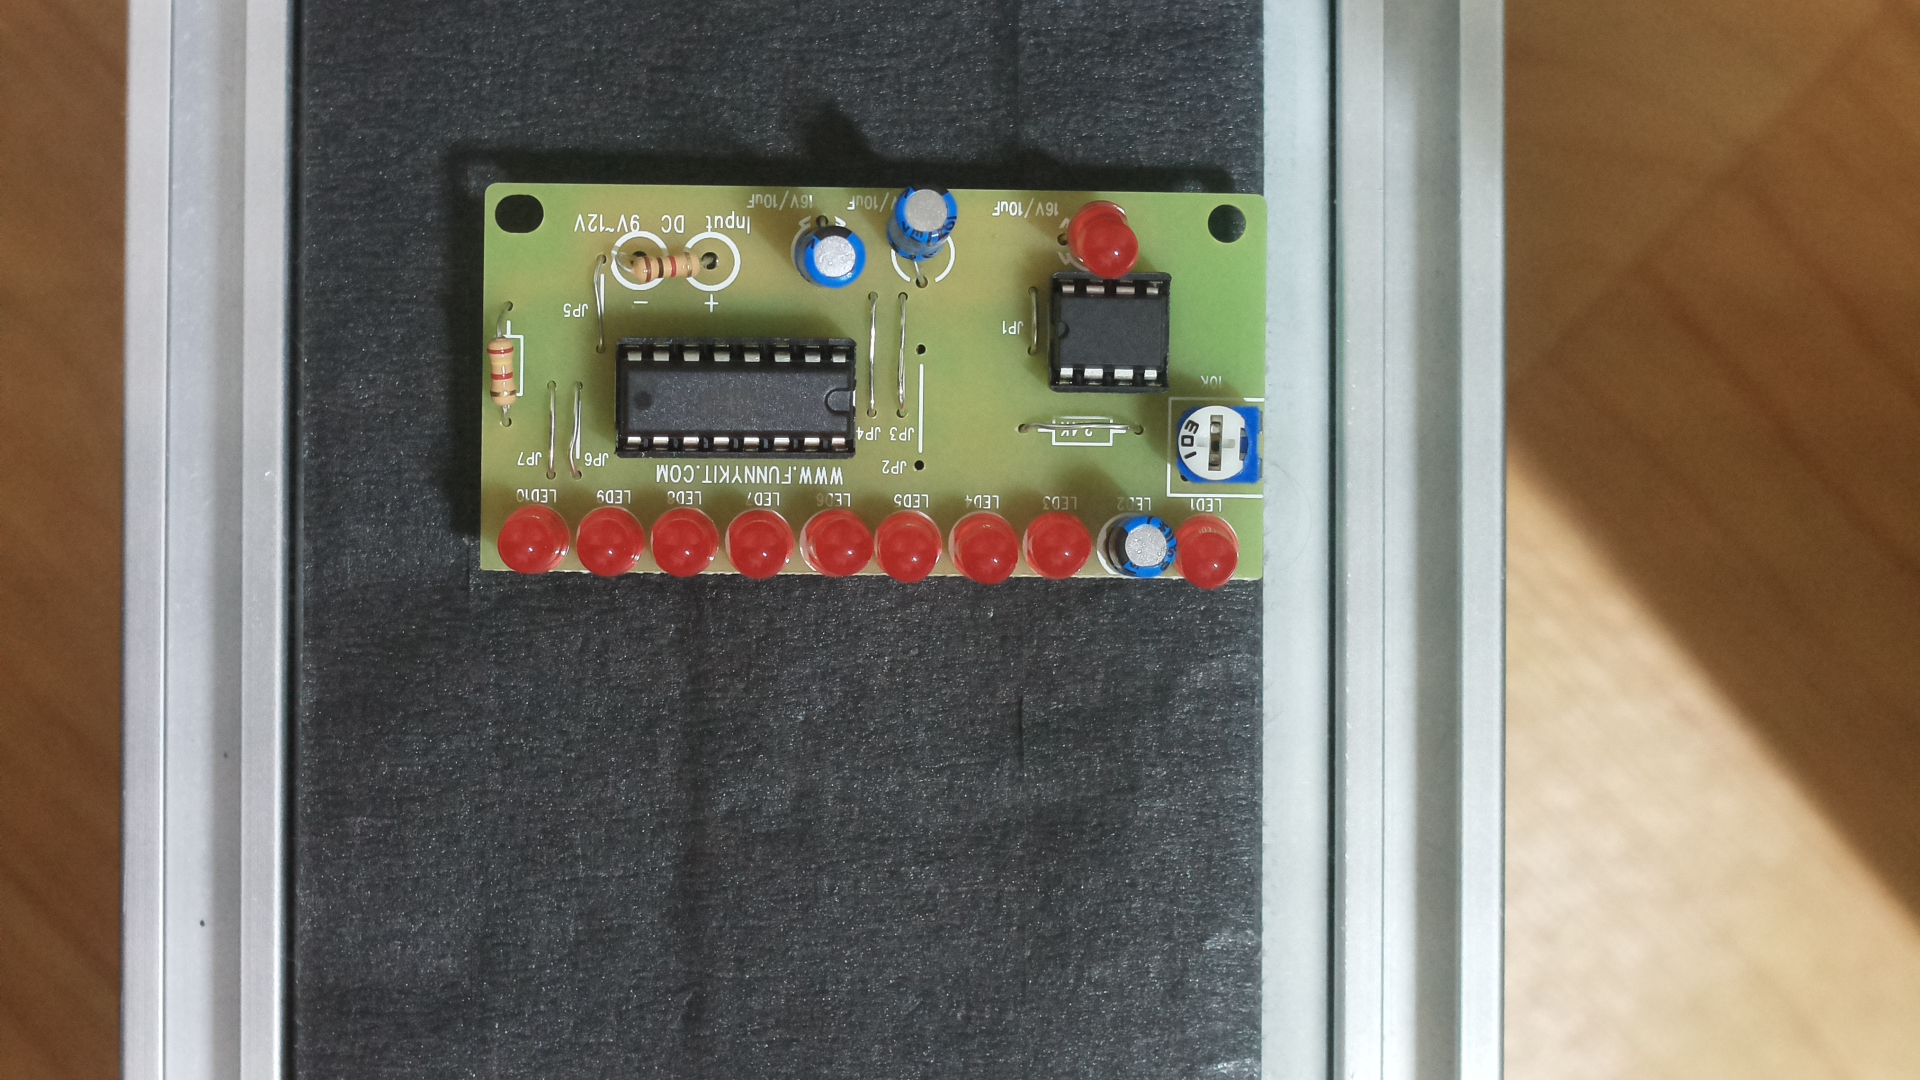B_Misordered: (463, 175, 1276, 599)
